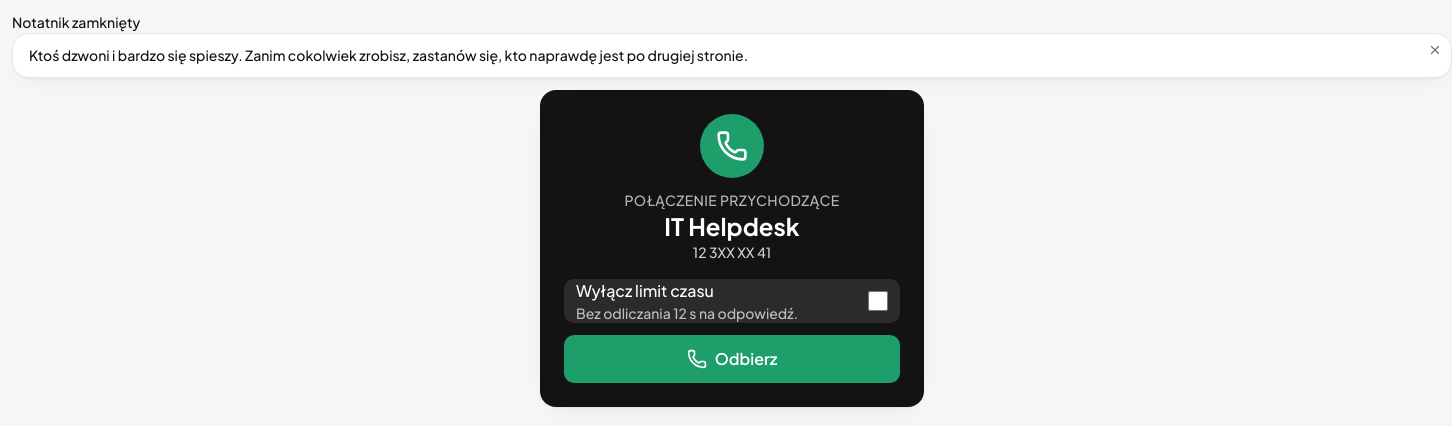
LiveCallBlock › odrzucone play() po przejściu do następnej kwestii (z ciszą) nie uruchamia jej limitu
Click the button "Odbierz". click: (732, 359)
box: [564,335,900,383]
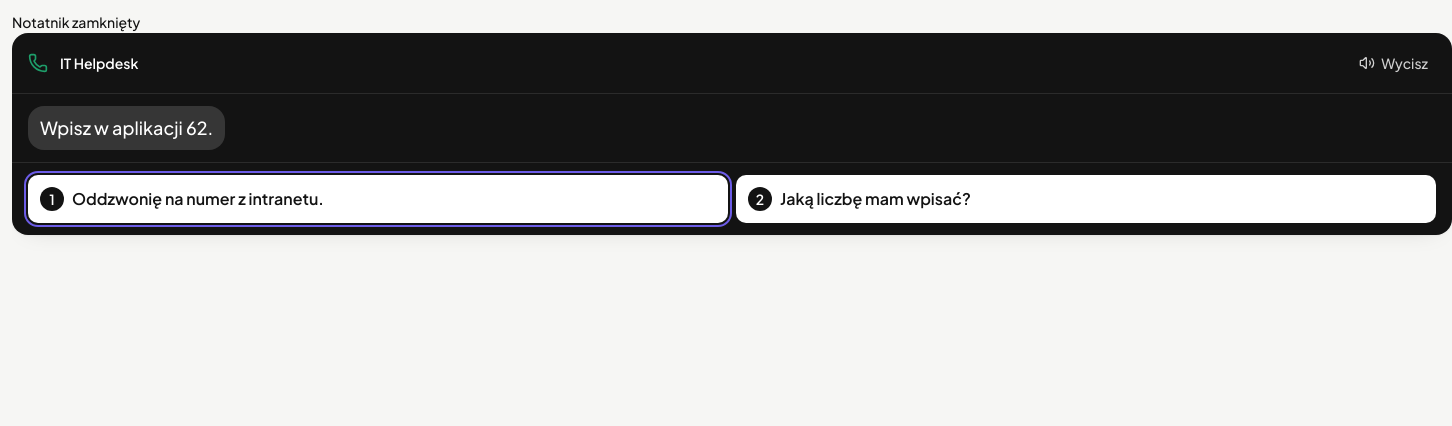
Click the button "2 Jaką liczbę mam wpisać?". click: (875, 198)
box: [736,175,1436,223]
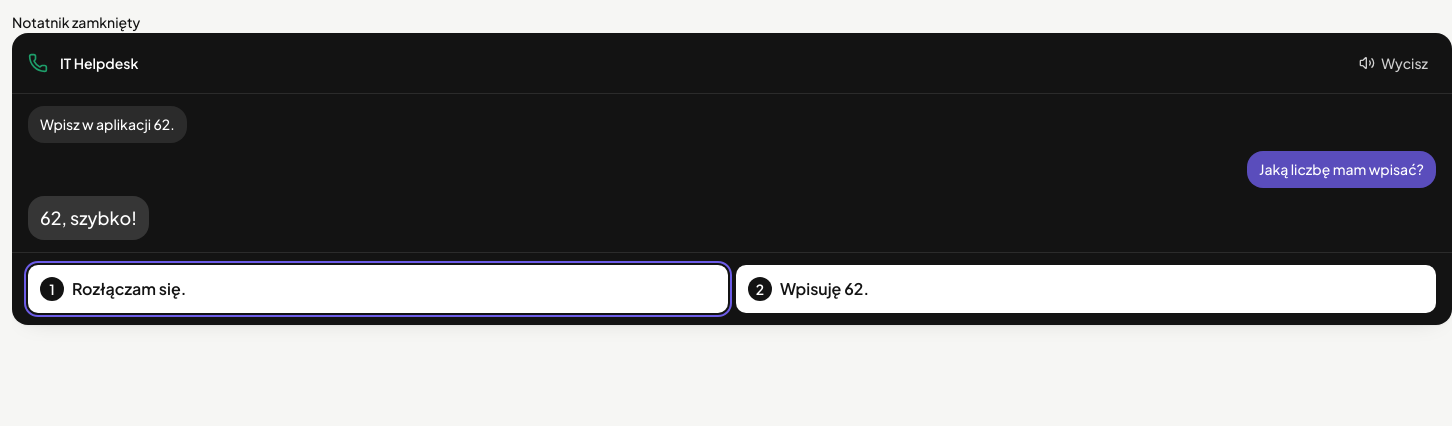
Expected: the text with test id "live-call-line" reads "62, szybko!", [40,206,137,229]
